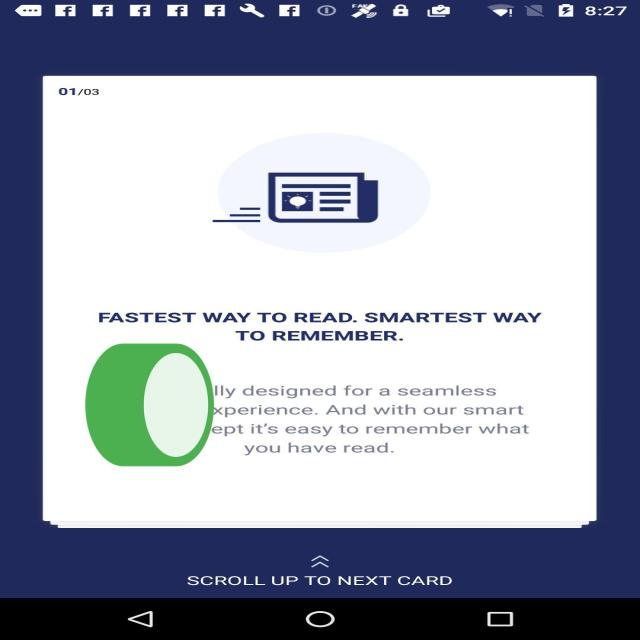social proof: (79, 296, 220, 523)
